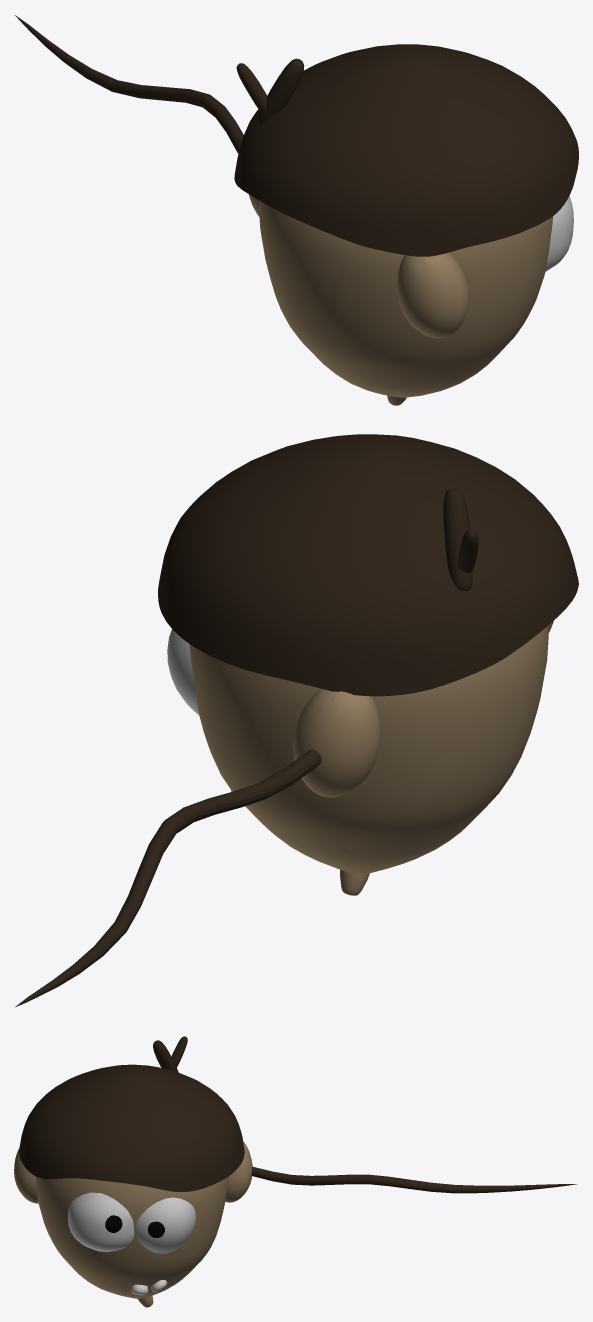
Rendered from Norbert.fbx.
3 views of the same model, one above another, from view 1: azimuth 30°, elevation 25°; view 2: azimuth 150°, elevation 25°; view 3: azimuth 270°, elevation 25° (orthographic). The views are drawn at different scales.
Visible parts, largest first — view 1: Norbert_Kopf; view 2: Norbert_Kopf; view 3: Norbert_Kopf.
Part boxes in pixels (bbox=[...]): Norbert_Kopf: bbox=[15, 15, 578, 405]; Norbert_Kopf: bbox=[14, 434, 578, 1007]; Norbert_Kopf: bbox=[14, 1036, 577, 1307].
Size of the model in its own units: 4.98 by 5.76 by 12.46.
